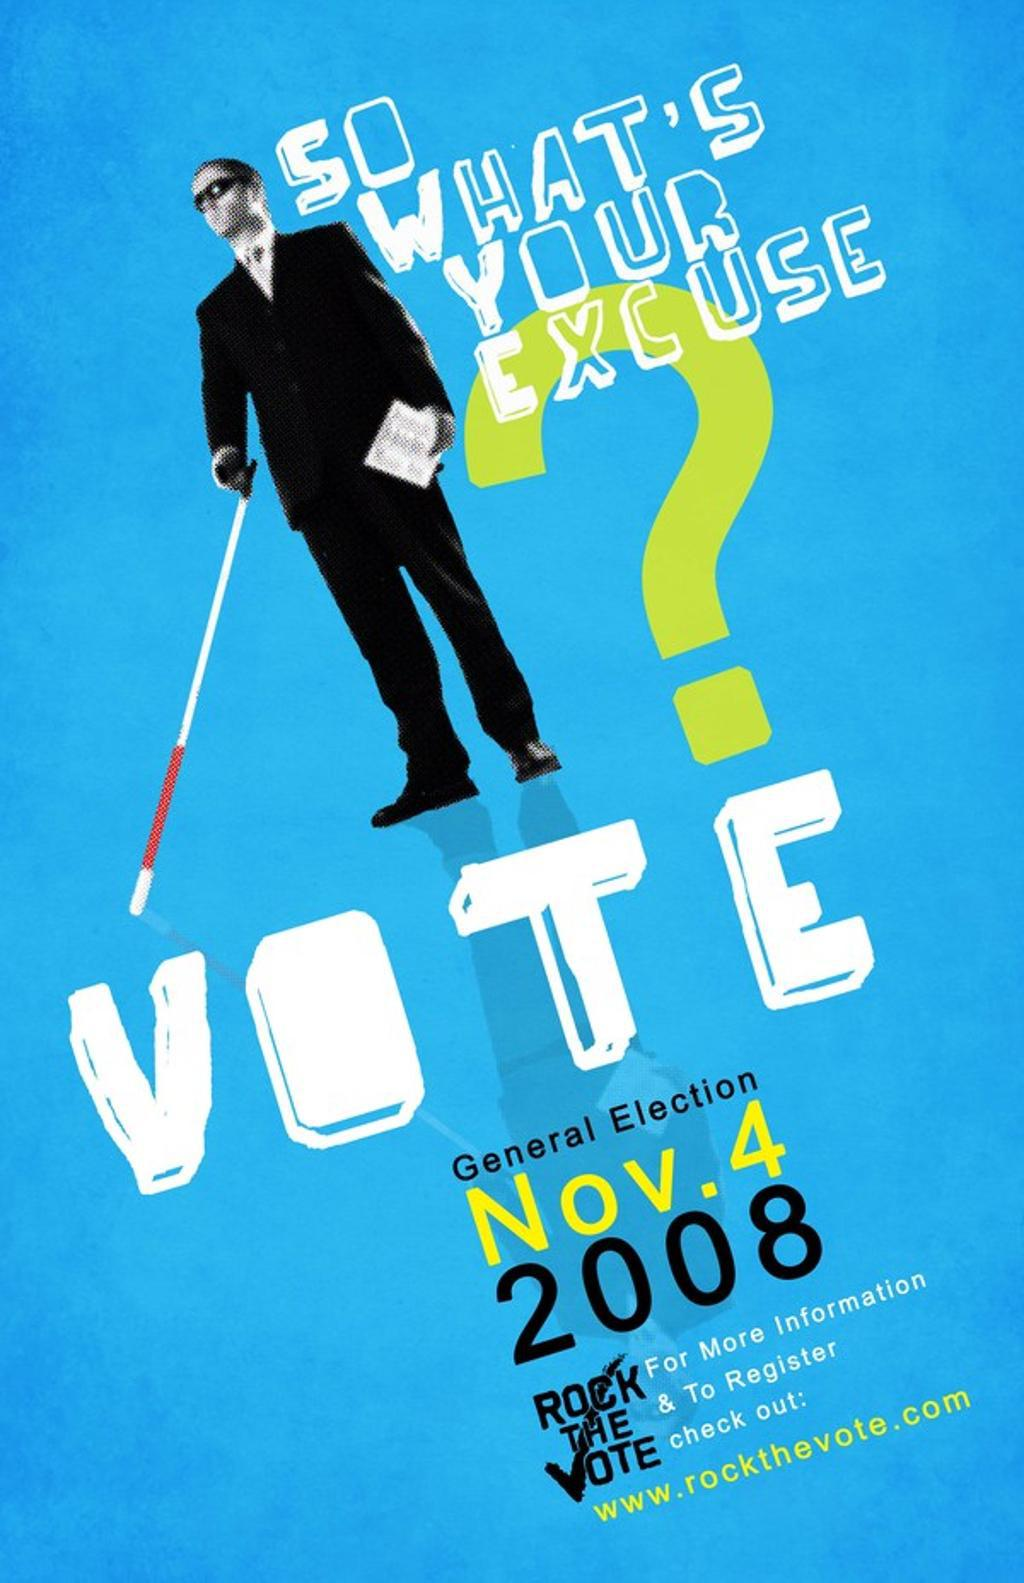face: (193, 166, 244, 236)
